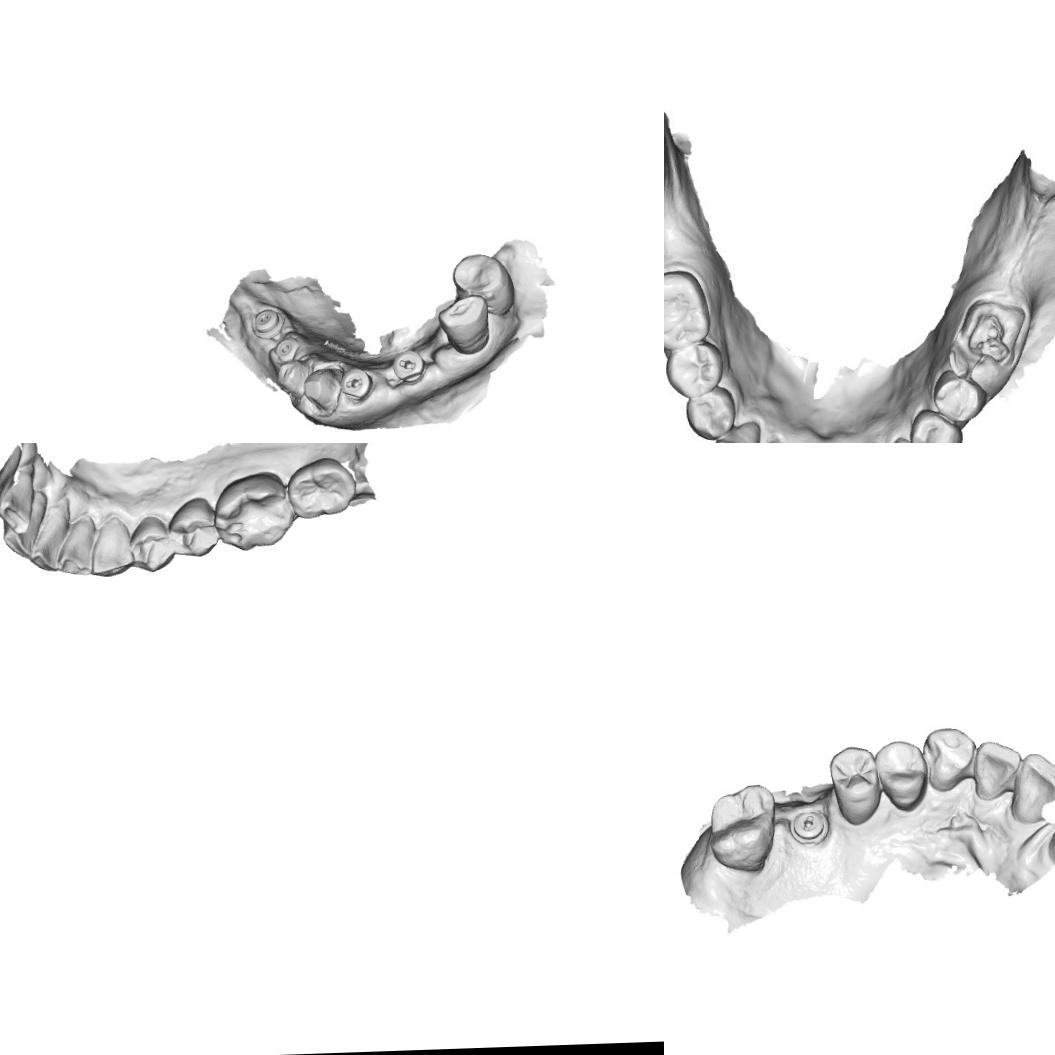canine: (919, 724, 979, 793), (436, 293, 490, 356), (88, 520, 134, 580), (713, 422, 761, 443)
crown: (301, 362, 345, 416)
implant: (250, 307, 285, 340), (272, 336, 300, 364)
implant_minus: (390, 347, 429, 387), (339, 365, 376, 404), (790, 807, 826, 844)
incisor: (1005, 750, 1055, 826), (970, 739, 1026, 804), (28, 509, 70, 572), (0, 471, 37, 535), (56, 523, 92, 579), (1, 520, 39, 562)
molar: (211, 469, 295, 554), (706, 782, 778, 872), (284, 454, 358, 520), (664, 268, 713, 351)
premolar: (826, 742, 886, 827), (872, 736, 930, 814), (450, 252, 516, 318), (166, 494, 221, 559), (664, 340, 725, 398), (683, 384, 739, 442), (931, 368, 988, 424), (128, 514, 181, 574), (909, 407, 964, 443)
